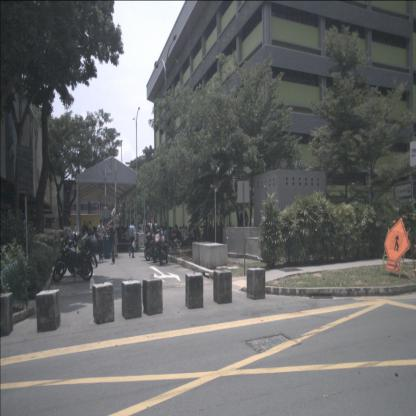human-pedestrian-adult: (86, 221, 98, 269), (106, 219, 118, 265), (97, 218, 105, 262), (128, 220, 137, 258), (162, 226, 171, 252), (173, 224, 181, 250), (126, 226, 131, 252), (189, 225, 195, 246), (83, 220, 87, 244), (184, 226, 188, 245), (154, 221, 158, 237), (161, 228, 165, 243), (182, 225, 185, 244), (179, 225, 182, 242), (74, 223, 77, 240), (149, 220, 152, 236), (172, 227, 175, 242), (147, 220, 150, 235)
movable_object-barrier: (36, 289, 61, 333), (92, 282, 115, 324), (121, 280, 142, 320), (142, 277, 163, 315), (185, 273, 204, 309), (213, 270, 232, 304), (0, 292, 14, 337), (247, 267, 266, 300)
vehicle-motorcycle: (52, 234, 98, 282), (151, 231, 167, 263), (144, 232, 160, 261), (158, 238, 168, 265)
